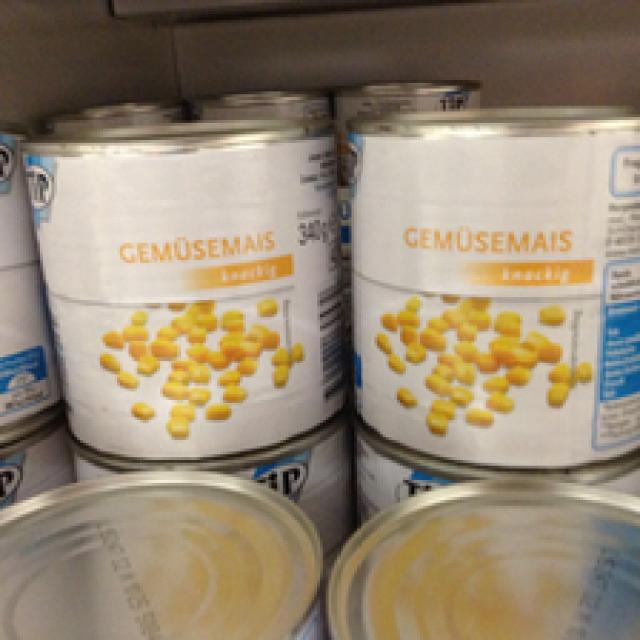groceries: (20, 114, 343, 469), (340, 97, 634, 472)
